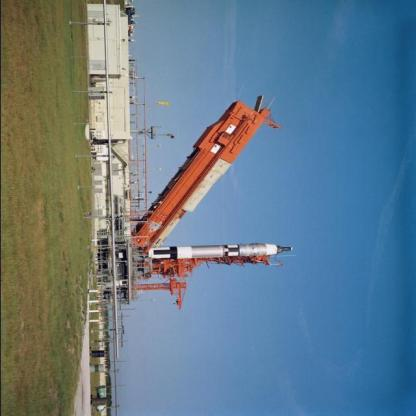MIL_TBM: (148, 242, 298, 260)
